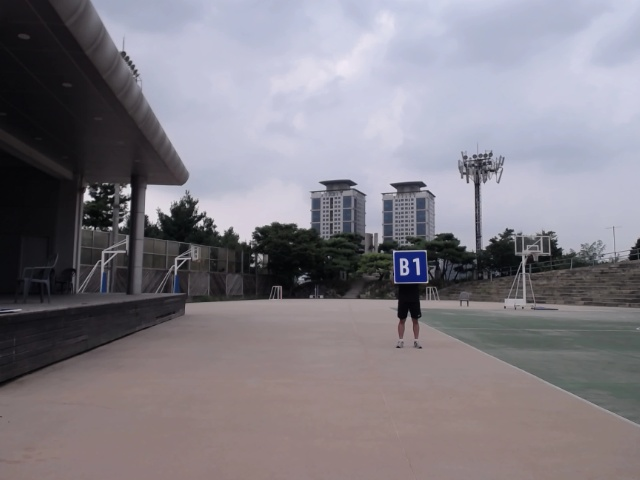delivery_b1: (393, 250, 428, 283)
